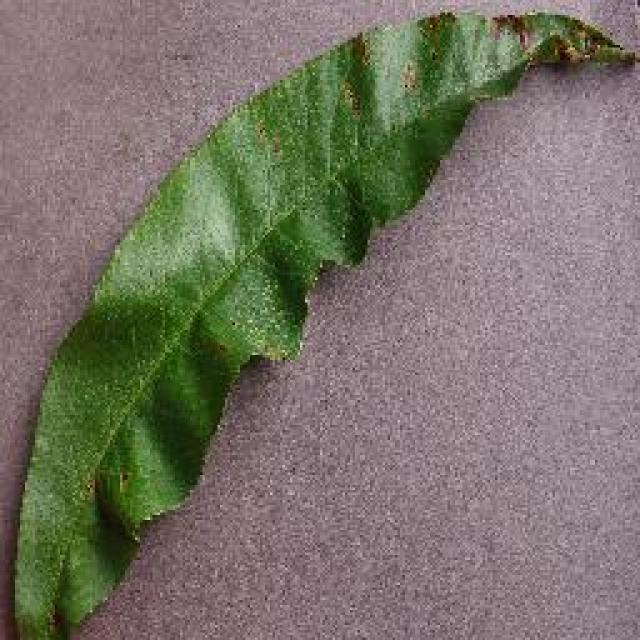Peach_Bacterial_Spot: (222, 40, 640, 108)
